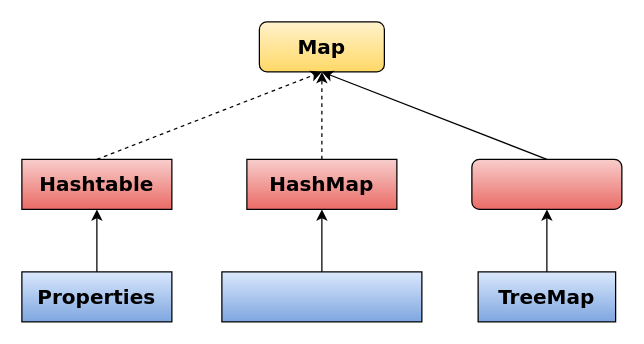
This 644x344 diagram has some shape labels left out. Here are the shapes that lost their labels. From the top down, the centre of each, then its label:
At pixel 546 183: "SortedMap".
At pixel 321 296: "LinkedHashMap".
